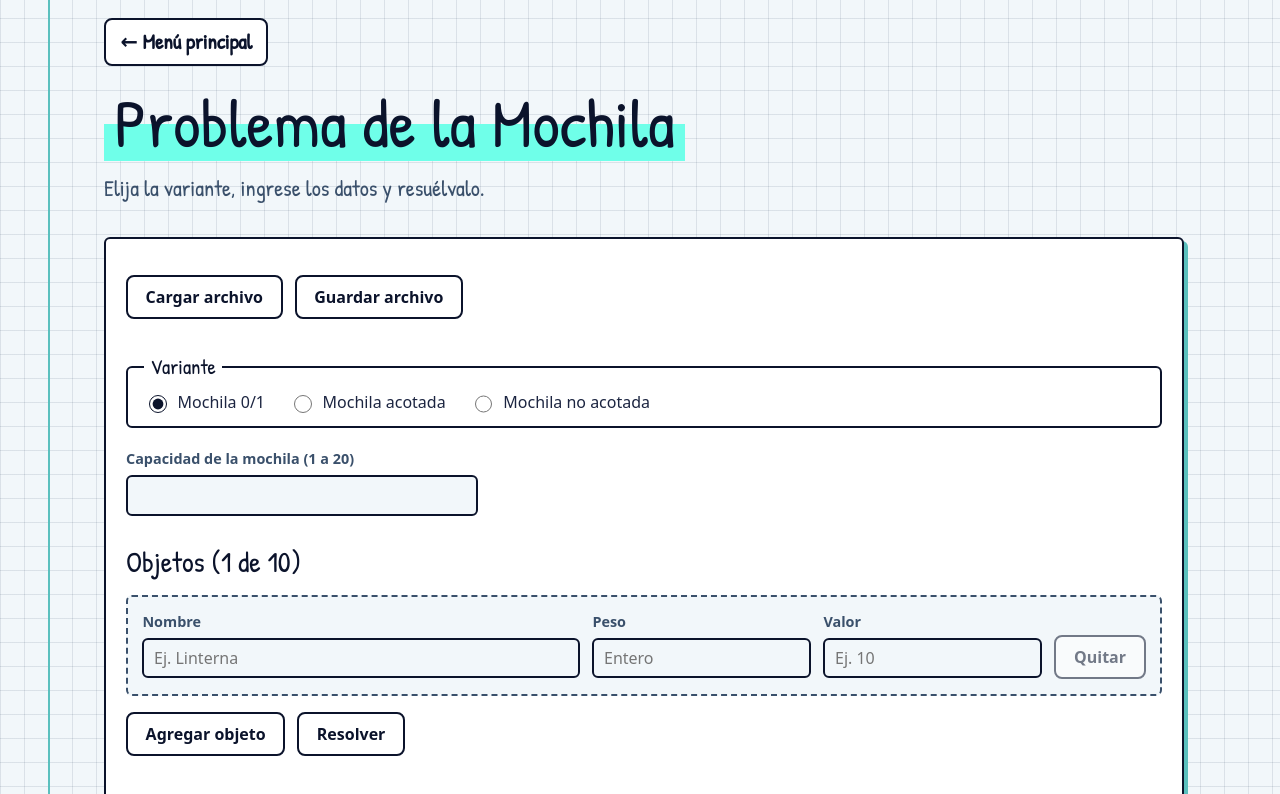
it: Página de la mochila › envía el problema al backend y muestra el valor óptimo y la tabla
In the field labelled "Capacidad de la mochila (1 a 20)": (302, 495) [126,475,478,516], type "1"
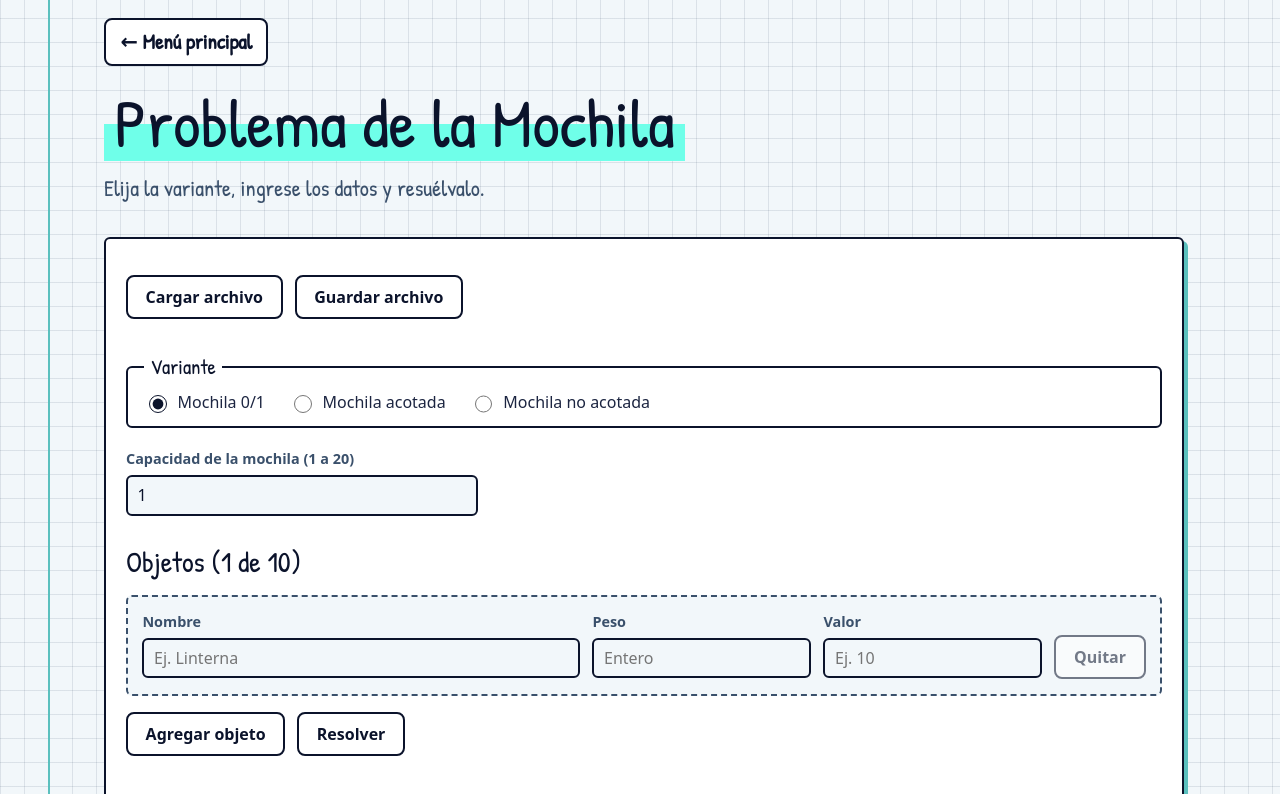
In the field labelled "Nombre": (361, 658) [142,638,580,678], type "B"
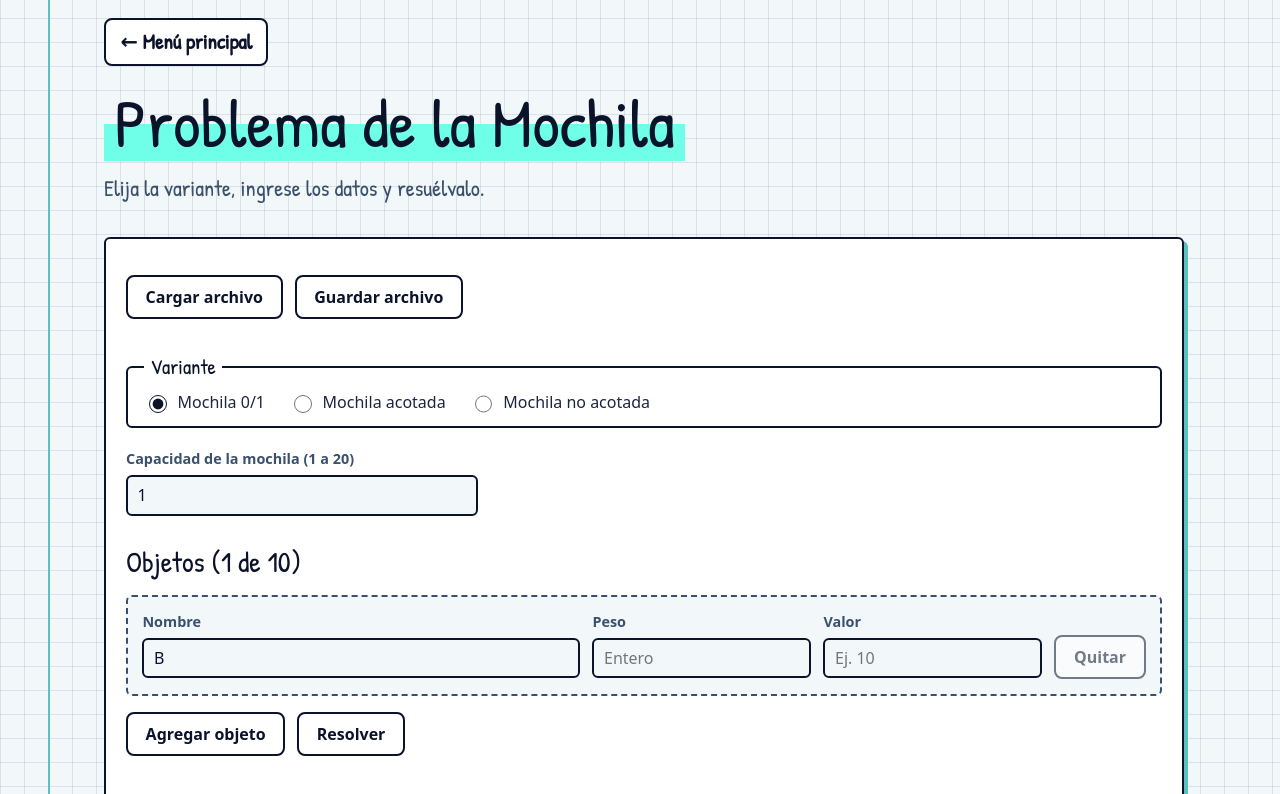
In the field labelled "Peso": (702, 658) [592,638,811,678], type "1"
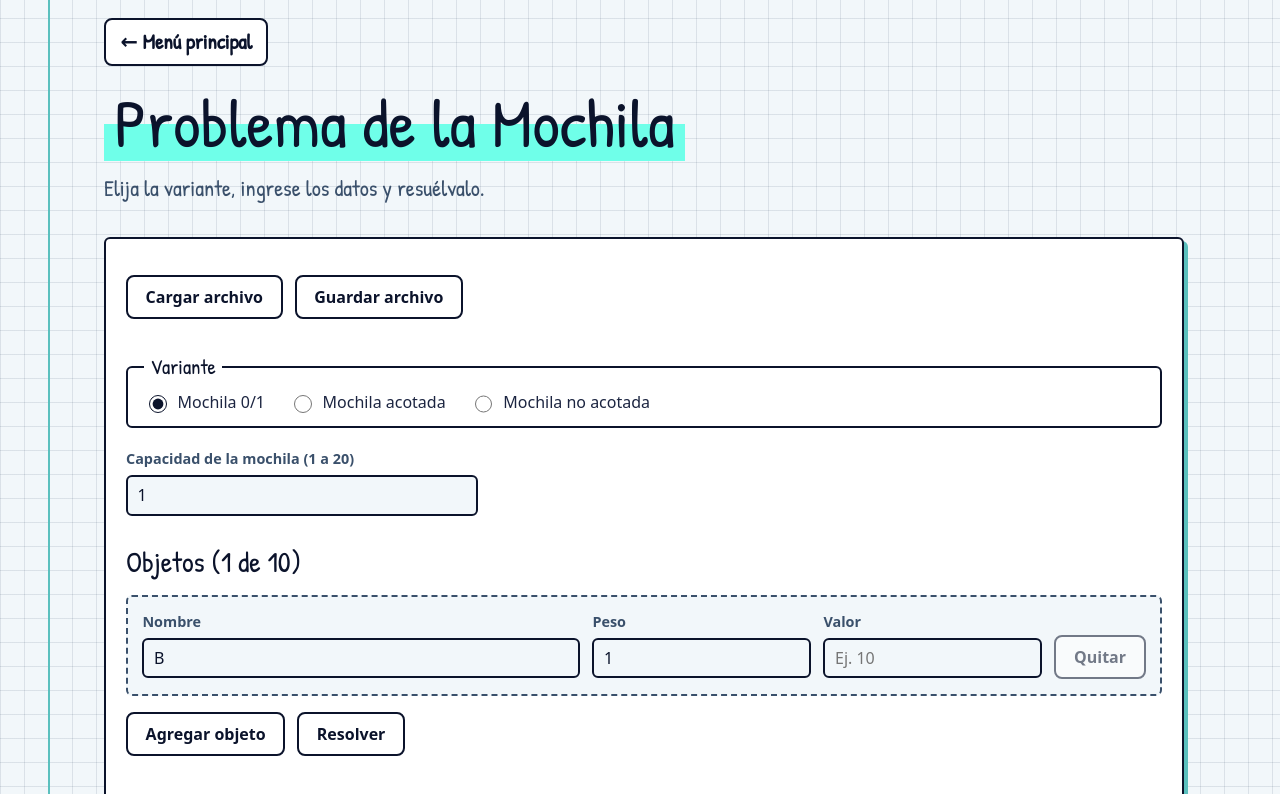
In the field labelled "Valor": (933, 658) [823,638,1042,678], type "40"
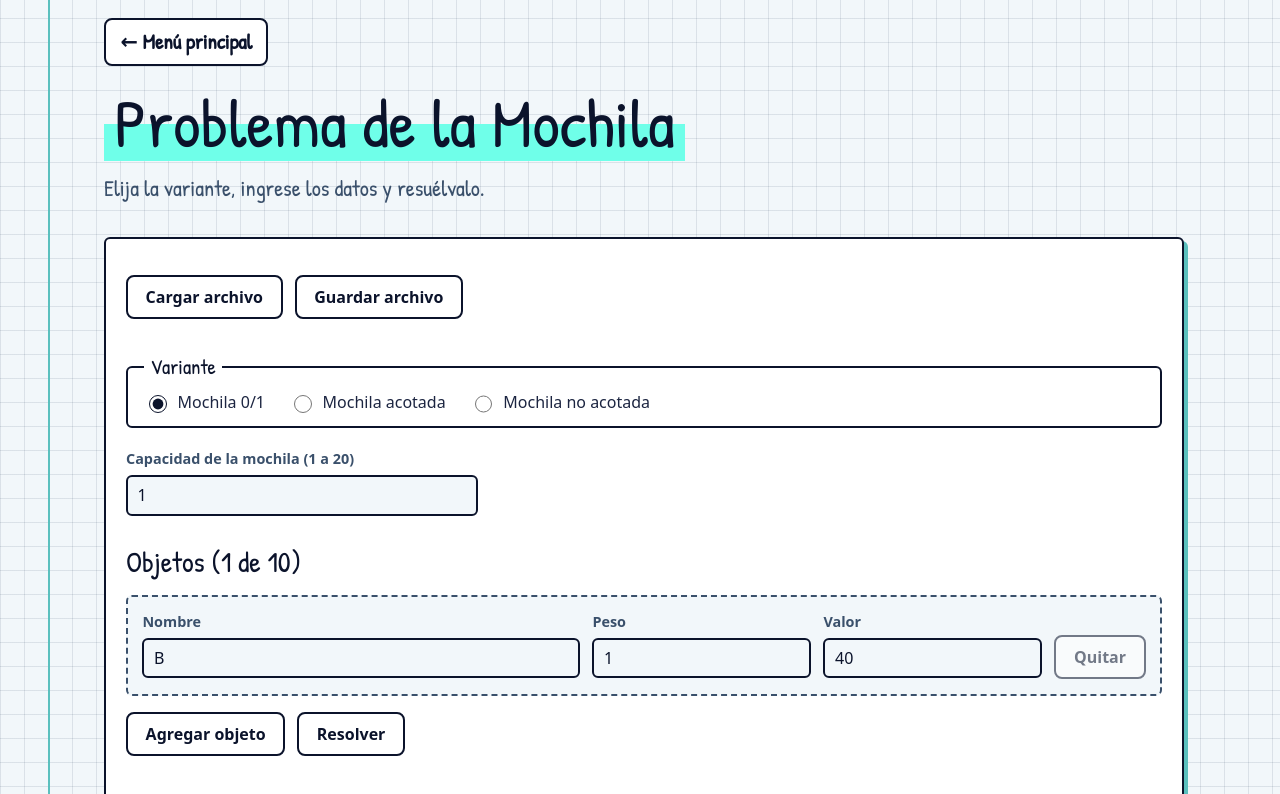
Click the button "Resolver": (351, 734) [297,712,405,756]
(page scrolled)
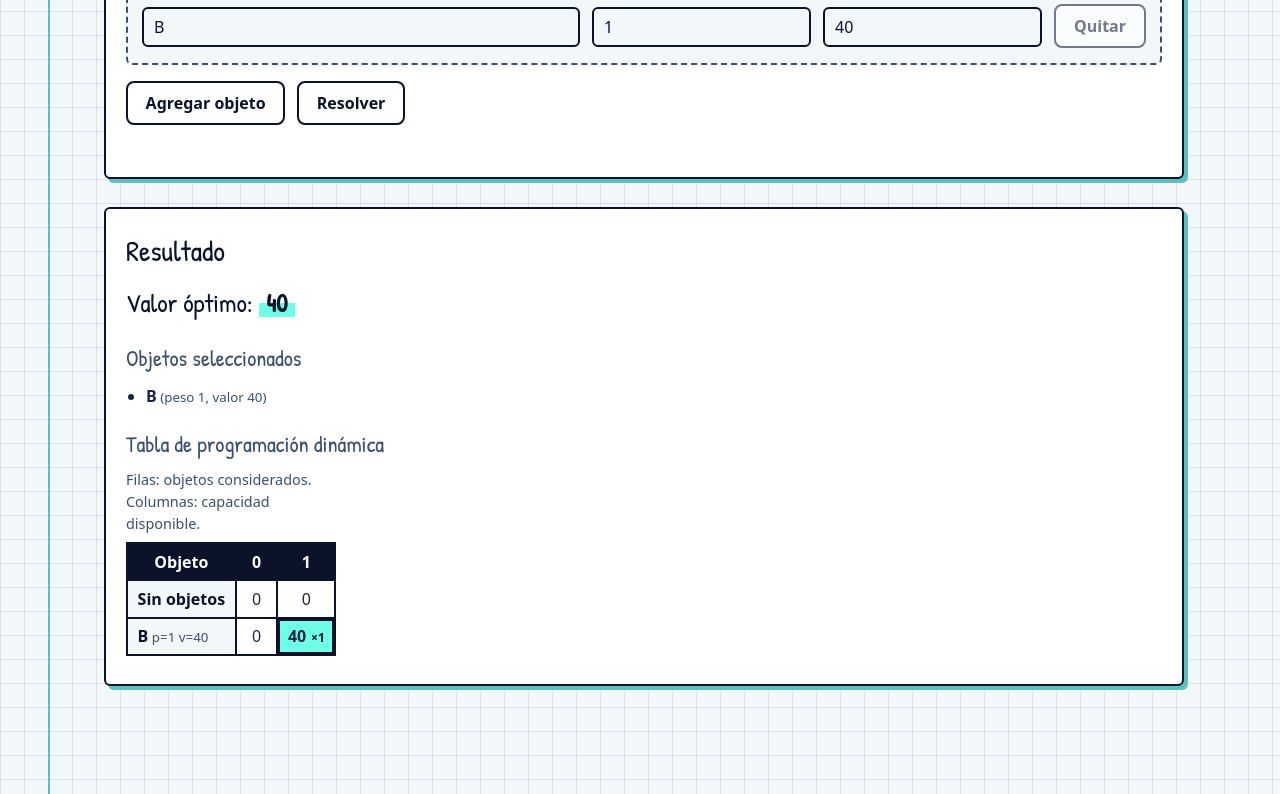
Expected: the text "Valor óptimo: 40" is shown, [126,285,295,320]
Expected: the table is shown, [126,469,336,656]
